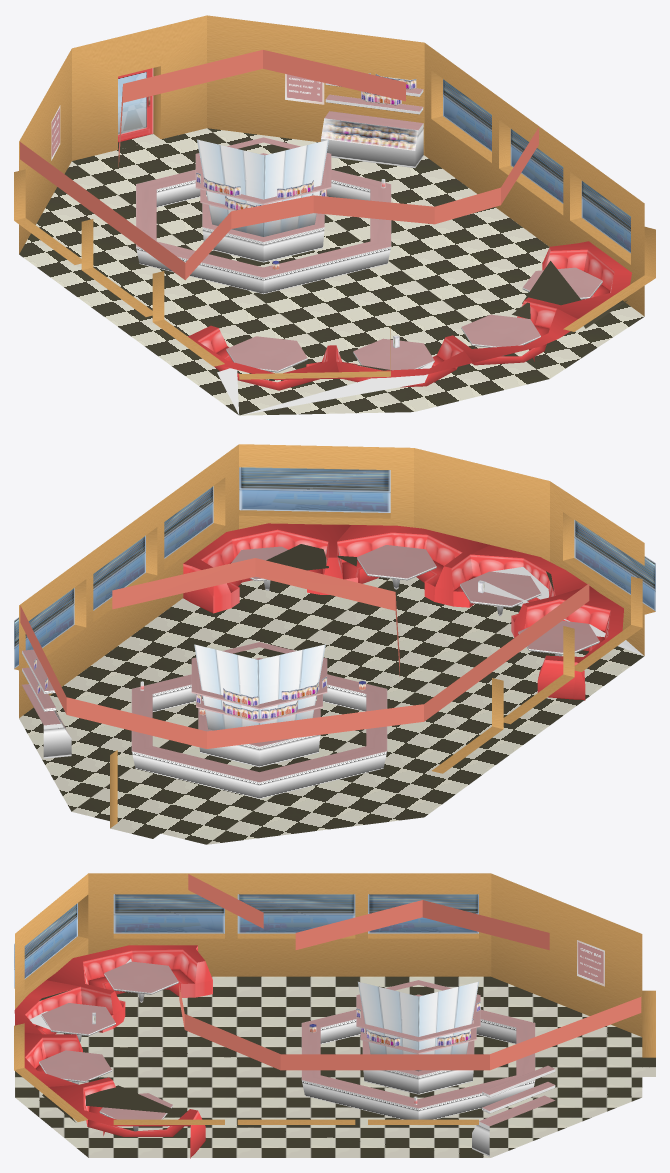
The picture shows the model from 3 angles, top to bottom: view 1: azimuth 30°, elevation 25°; view 2: azimuth 150°, elevation 25°; view 3: azimuth 270°, elevation 25°; orthographic projection. The views are drawn at different scales.
Visible parts, largest first — view 1: Plane01; view 2: Plane01; view 3: Plane01.
Boxes of the visible parts, box(x1,y1,x2,y2) form: Plane01: box(14, 15, 655, 415); Plane01: box(14, 444, 655, 844); Plane01: box(14, 873, 655, 1158).
Size of the model in its own units: 2608 by 667 by 3696.
15 materials, 10 textured.
